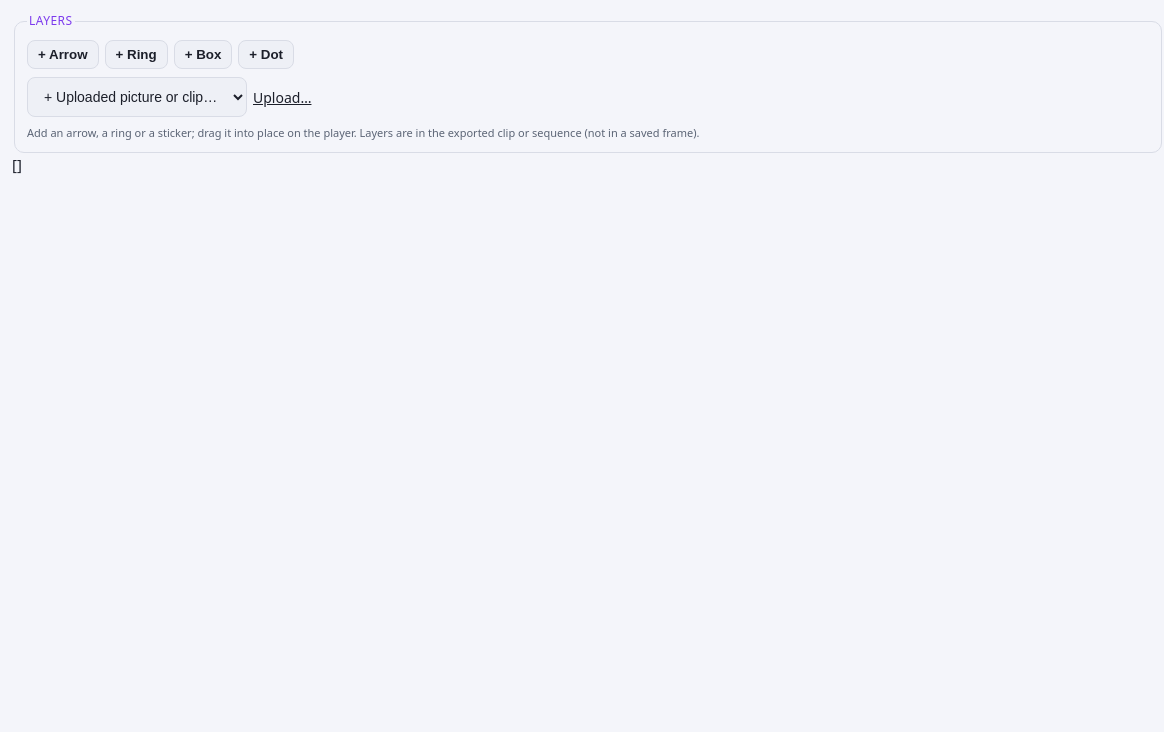
Test: Layers box › lists layers, switches the selection and removes one
Click the button "+ Arrow". click: click(63, 54)
box: [27,40,98,69]
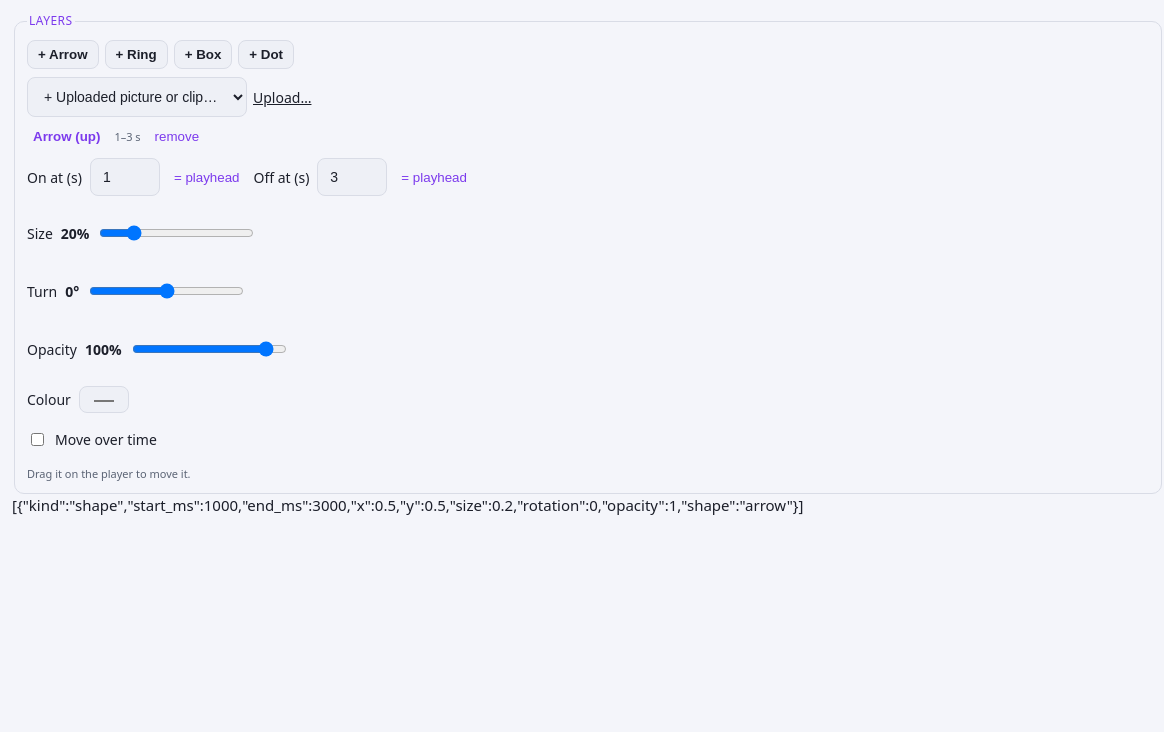
Click the button "+ Dot". click: click(266, 54)
box: [238,40,294,69]
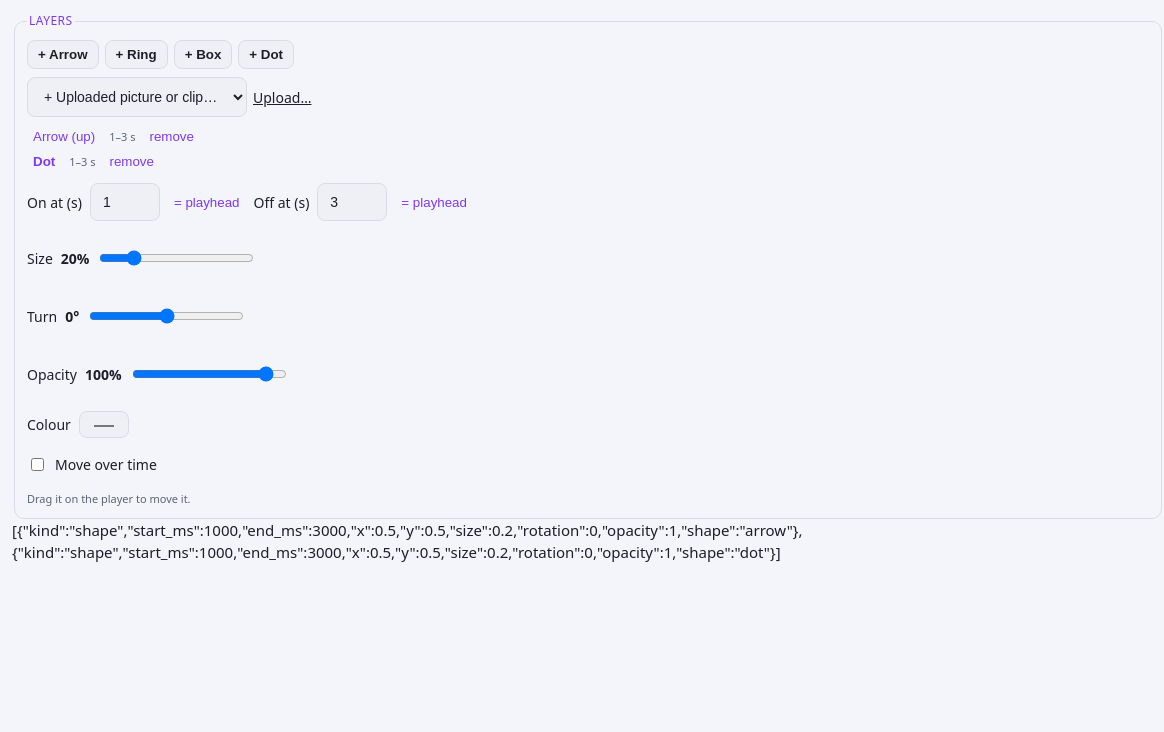
Click the button with aria-label "Remove Arrow (up)". click: click(172, 136)
box: [144,127,200,146]
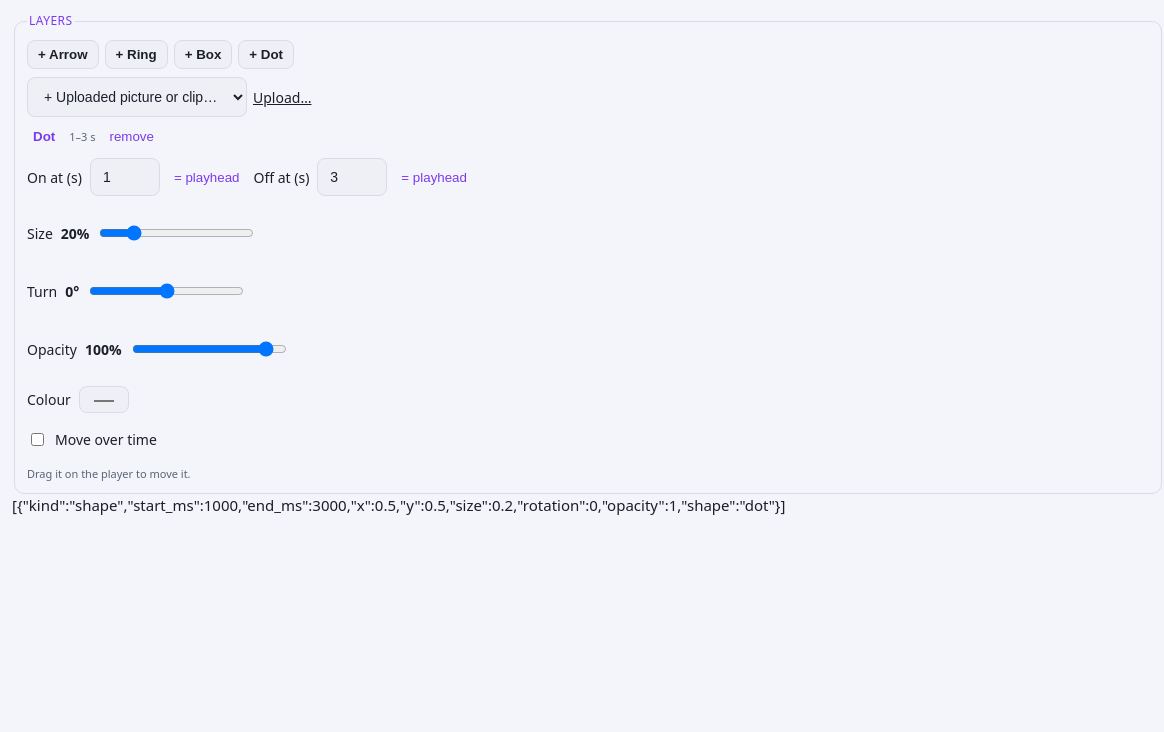
Click the button with aria-label "Remove Dot". click: click(132, 136)
box: [104,127,160,146]
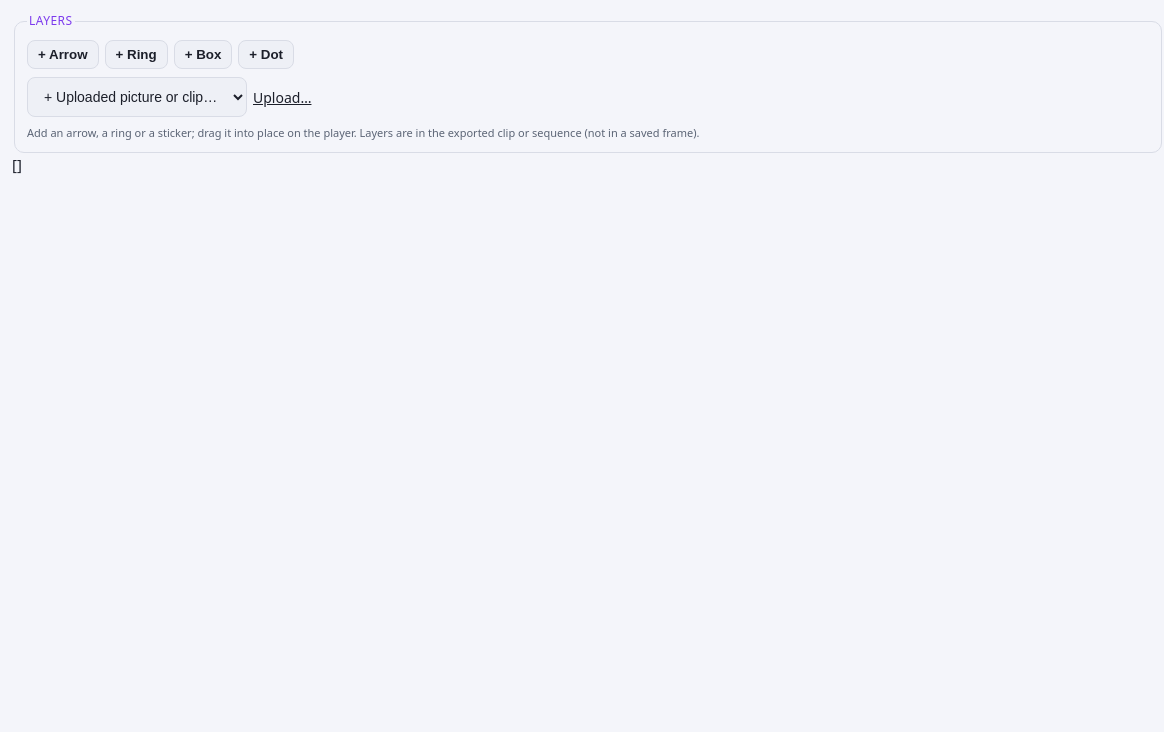
Expected: the text "Drag it on the player to move it." is gone
